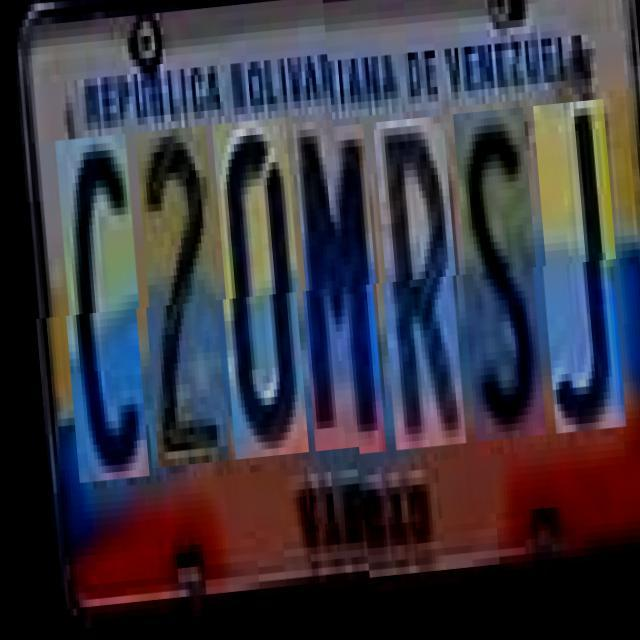0: (210, 130, 304, 470)
2: (133, 137, 224, 477)
C: (53, 143, 145, 491)
J: (530, 112, 621, 444)
M: (290, 132, 381, 464)
R: (370, 125, 461, 458)
S: (450, 118, 541, 451)
